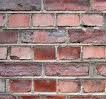brick: (20, 29, 67, 42), (69, 29, 106, 42), (1, 63, 41, 75), (46, 63, 88, 74), (45, 1, 91, 11), (1, 1, 42, 11), (6, 14, 33, 28), (57, 13, 80, 27), (9, 46, 31, 60), (80, 14, 104, 26), (58, 47, 81, 59), (83, 46, 106, 58), (33, 46, 54, 59), (34, 79, 55, 92), (1, 29, 19, 44), (33, 15, 55, 27), (82, 81, 106, 92), (11, 80, 32, 92), (59, 81, 79, 92), (92, 1, 106, 12), (94, 64, 106, 75), (1, 45, 6, 58)
